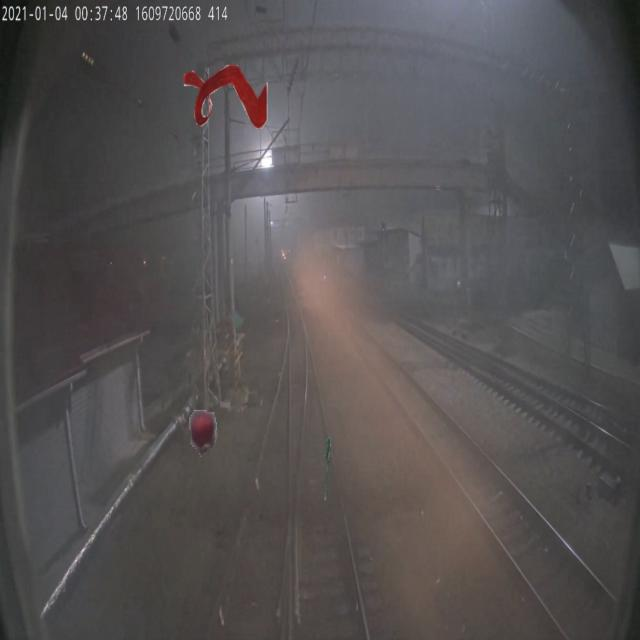balloon: (182, 404, 221, 468)
floating object: (184, 64, 268, 128), (323, 436, 330, 500)
